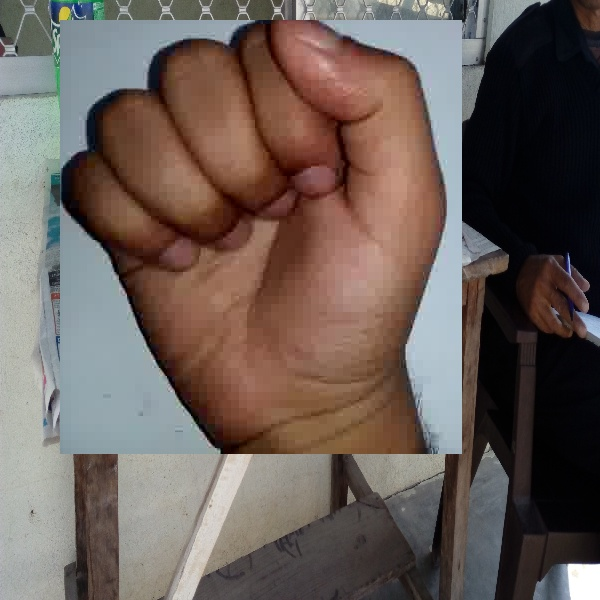A: (60, 20, 462, 454)
